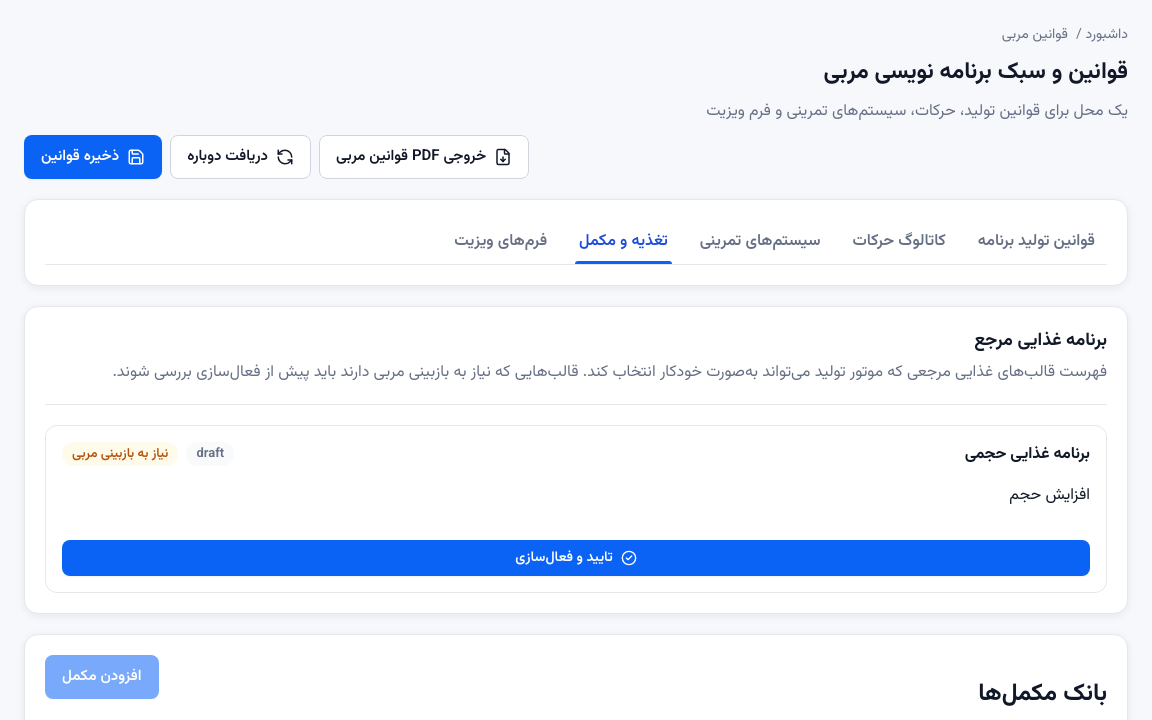
it: CoachRulesPage › approves and activates a nutrition template needing coach review
Expected: the text "برنامه غذایی حجمی" is shown, [965, 442, 1090, 467]
Expected: the text "نیاز به بازبینی مربی" is shown, [62, 442, 178, 466]
Click the button "تایید و فعال‌سازی".
click(576, 558)  # box [62, 540, 1090, 576]
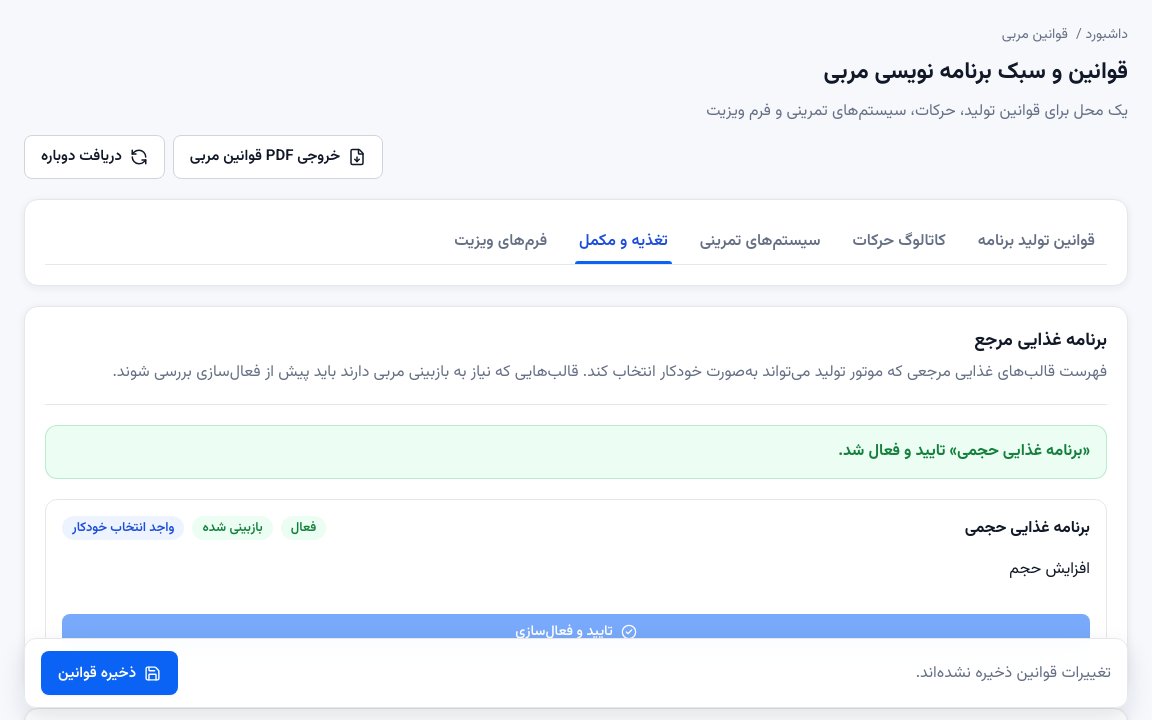
Now the text "«برنامه غذایی حجمی» تایید و فعال شد." is shown, box [45, 425, 1107, 479]
Now the text "بازبینی شده" is shown, box [192, 516, 273, 540]
